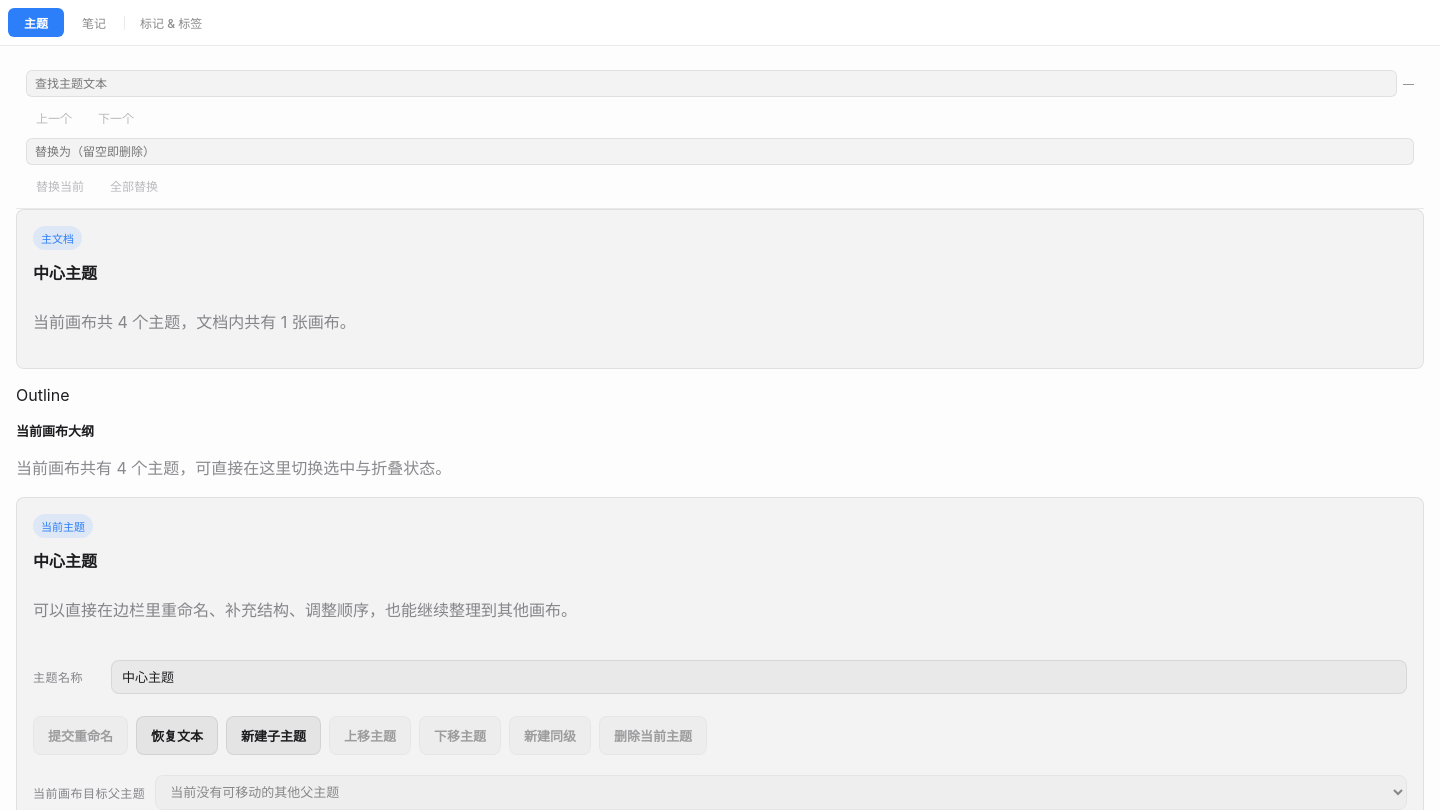
Scenario: groups markers and labels with counts in the 标记 & 标签 tab
Step 1. Click the tab "标记 & 标签" → (171, 22), box [124, 8, 218, 37]
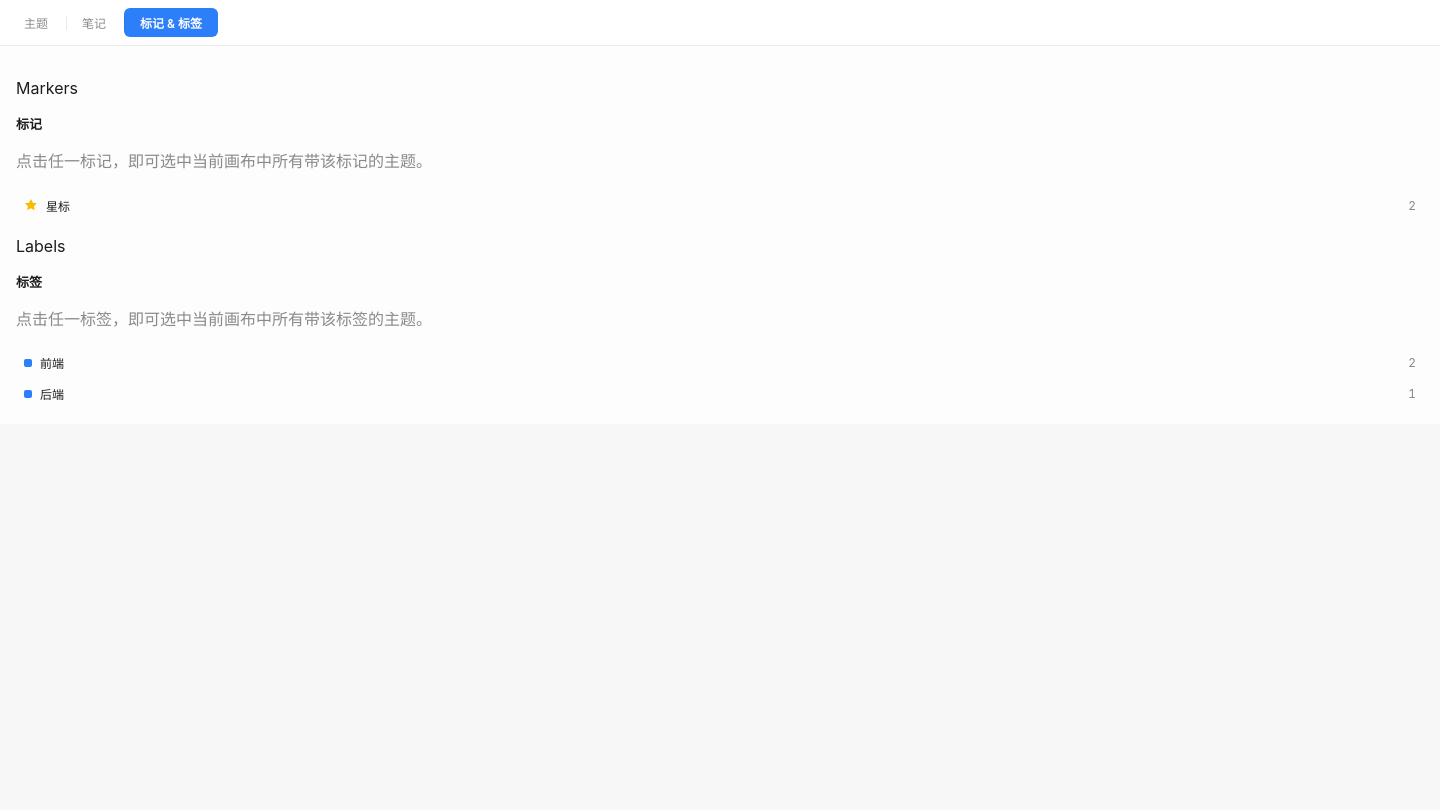
Now the button "星标 2" is shown, box [16, 191, 1424, 220]
Now the button "前端 2" is shown, box [16, 348, 1424, 377]
Now the button "后端 1" is shown, box [16, 379, 1424, 408]
